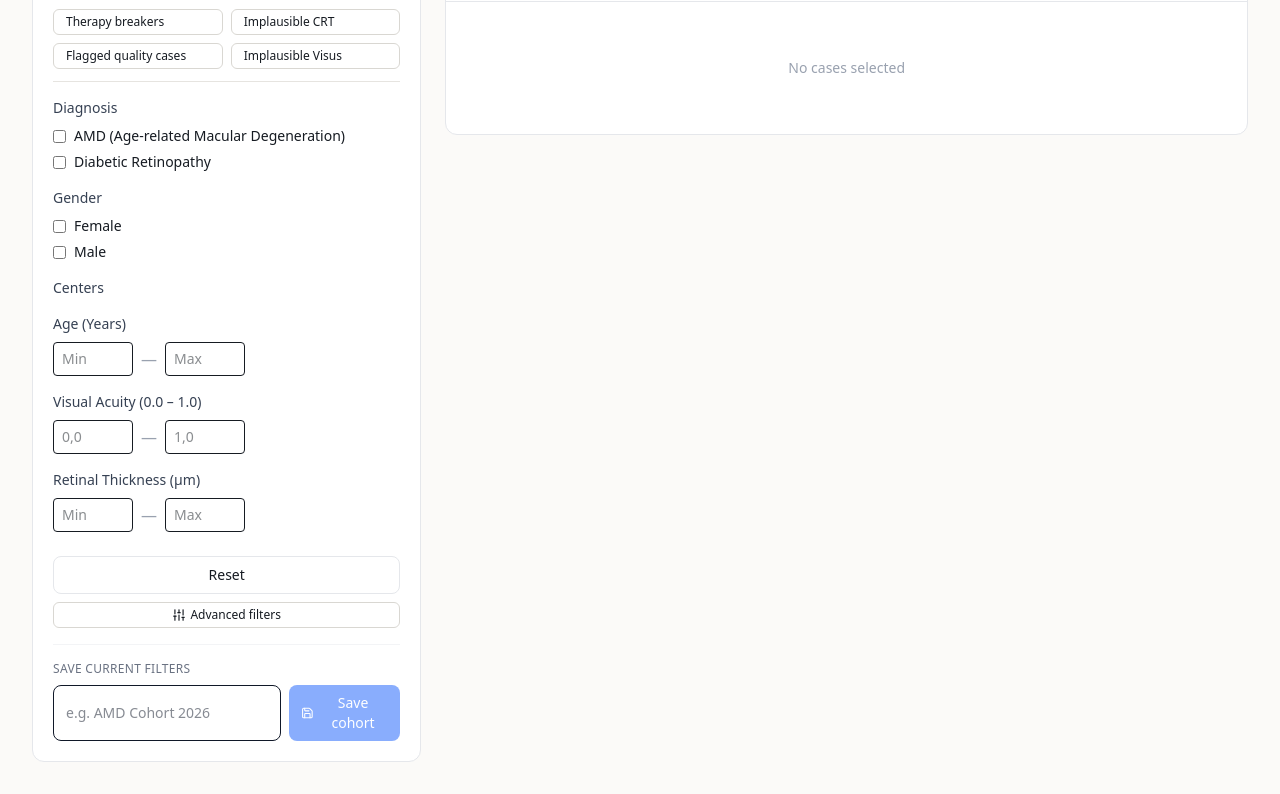
Test case: subcohort save validation (SC1, SC5) › SC1 (empty parent): shows cohortNameEmptyParent error and disables Save cohort button
The width and height of the screenshot is (1280, 794).
(page scrolled)
Type ":Sub" into the field with placeholder "e.g. AMD Cohort 2026" at (167, 713), box [53,685,281,741]
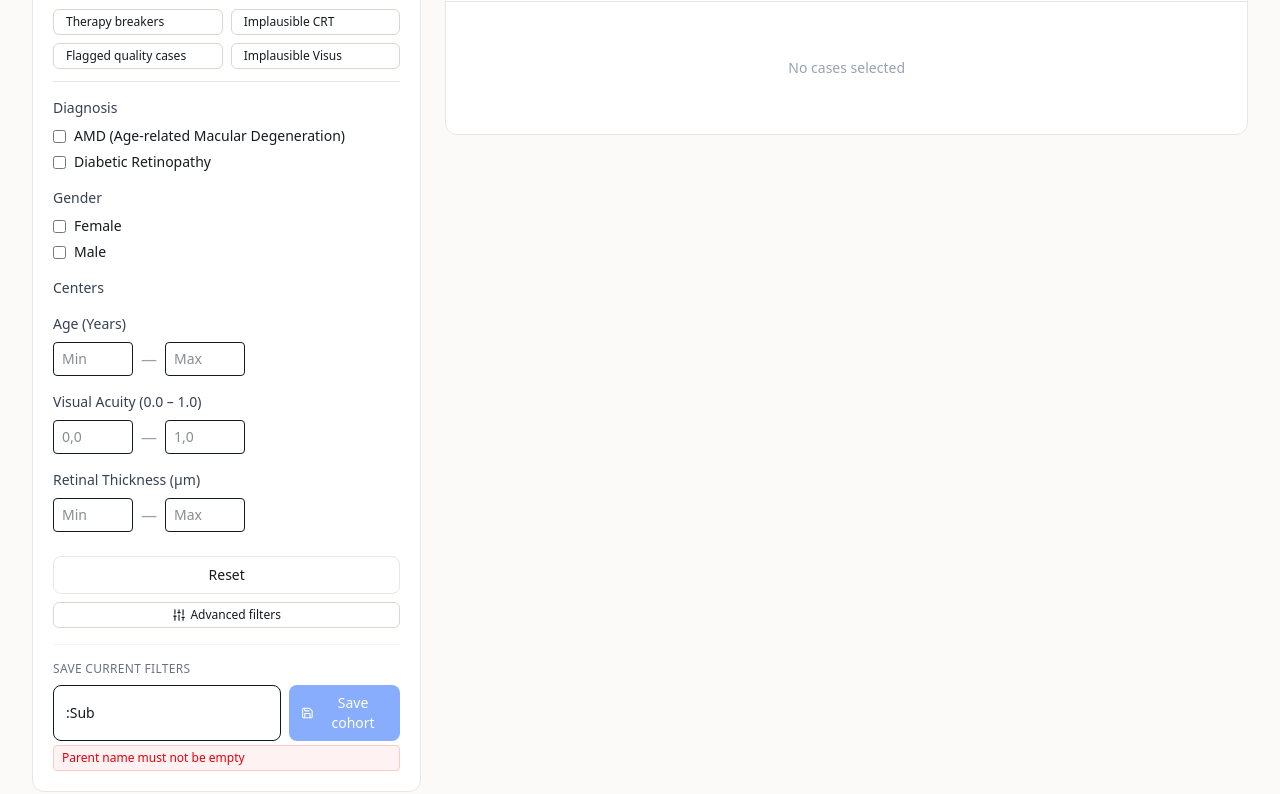
Expected: the button "Save cohort" is disabled, [289,685,400,741]
Expected: the text "Parent name must not be empty" is shown, [53,745,400,771]
